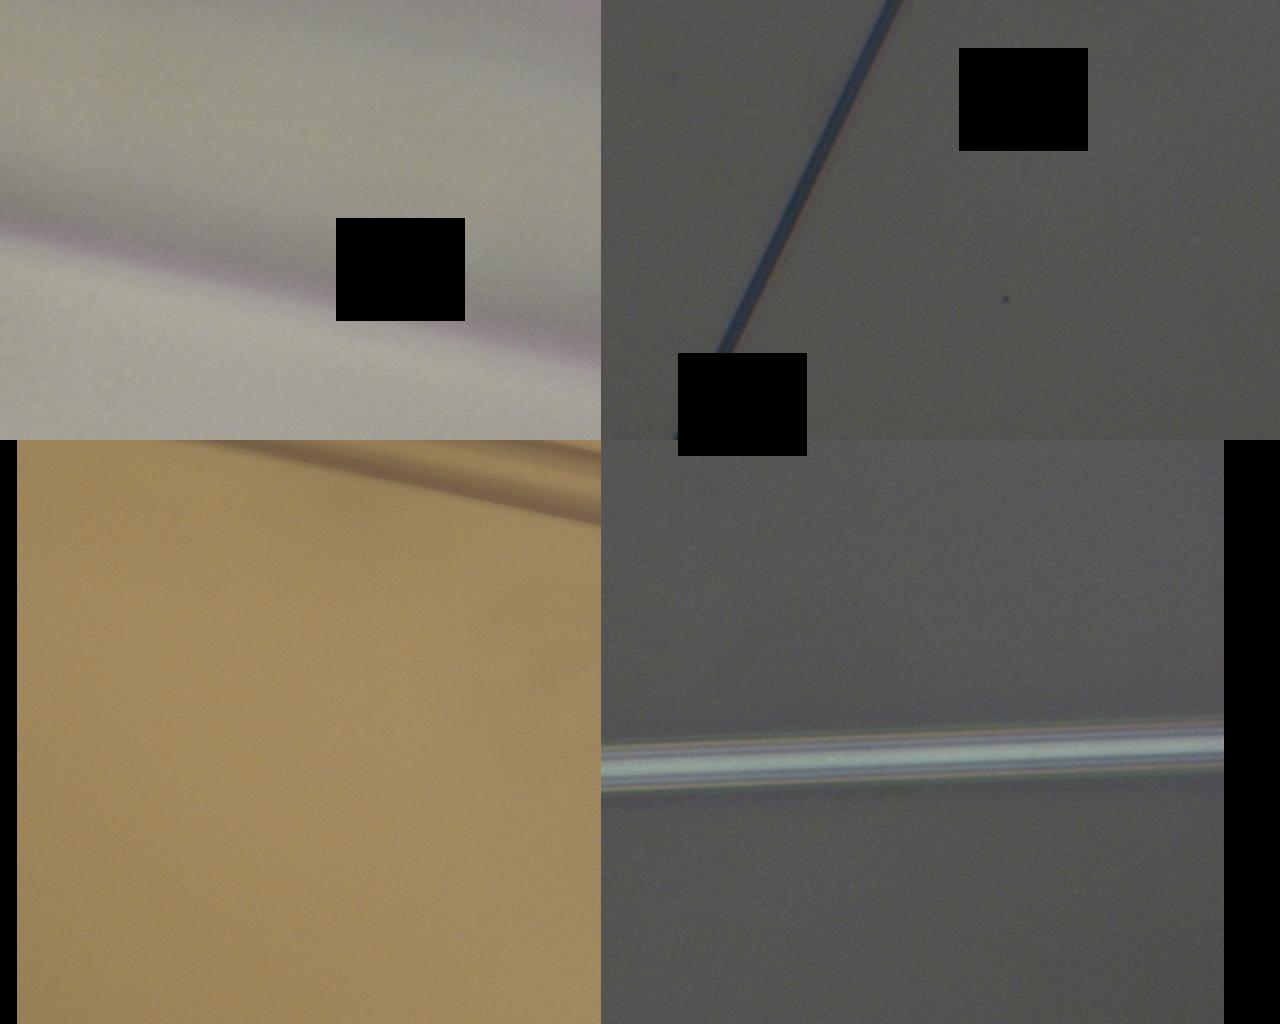fiber: (652, 822, 1280, 1024), (1146, 330, 1280, 573)
